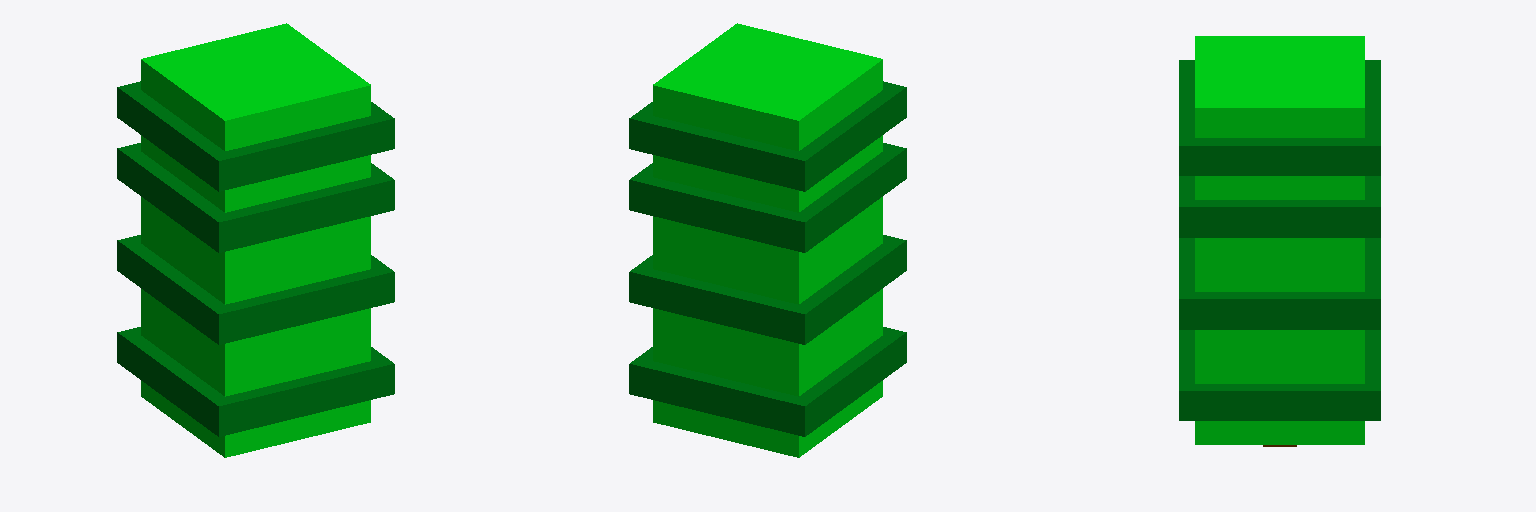
The picture shows the model from 3 angles: view 1: azimuth 30°, elevation 25°; view 2: azimuth 150°, elevation 25°; view 3: azimuth 270°, elevation 25°; orthographic projection.
Visible parts, largest first — view 1: Arvore3; view 2: Arvore3; view 3: Arvore3.
Boxes of the visible parts, x1=… form: Arvore3: x1=117, y1=23, x2=394, y2=457; Arvore3: x1=629, y1=23, x2=906, y2=457; Arvore3: x1=1179, y1=36, x2=1380, y2=446.
Size of the model in its own units: 12 by 24 by 12.
1 materials, 1 textured.